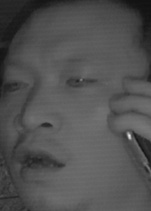eye: (64, 70, 98, 91), (2, 75, 30, 95)
mouth: (12, 139, 70, 182)
